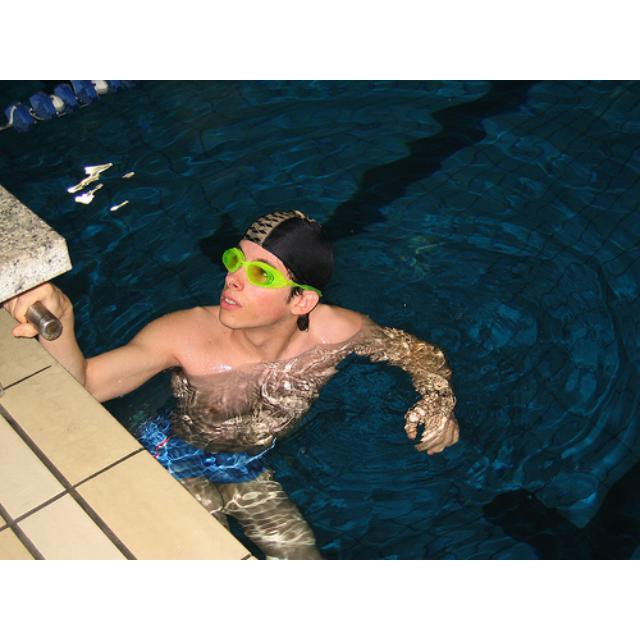human: (25, 207, 461, 560)
